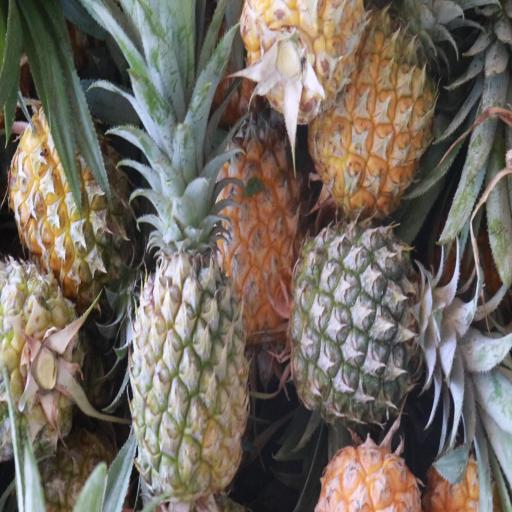------------------------------: (13, 102, 135, 290), (0, 264, 82, 448)
Pineapple - v8 v1: (309, 27, 437, 211), (219, 105, 307, 331)
